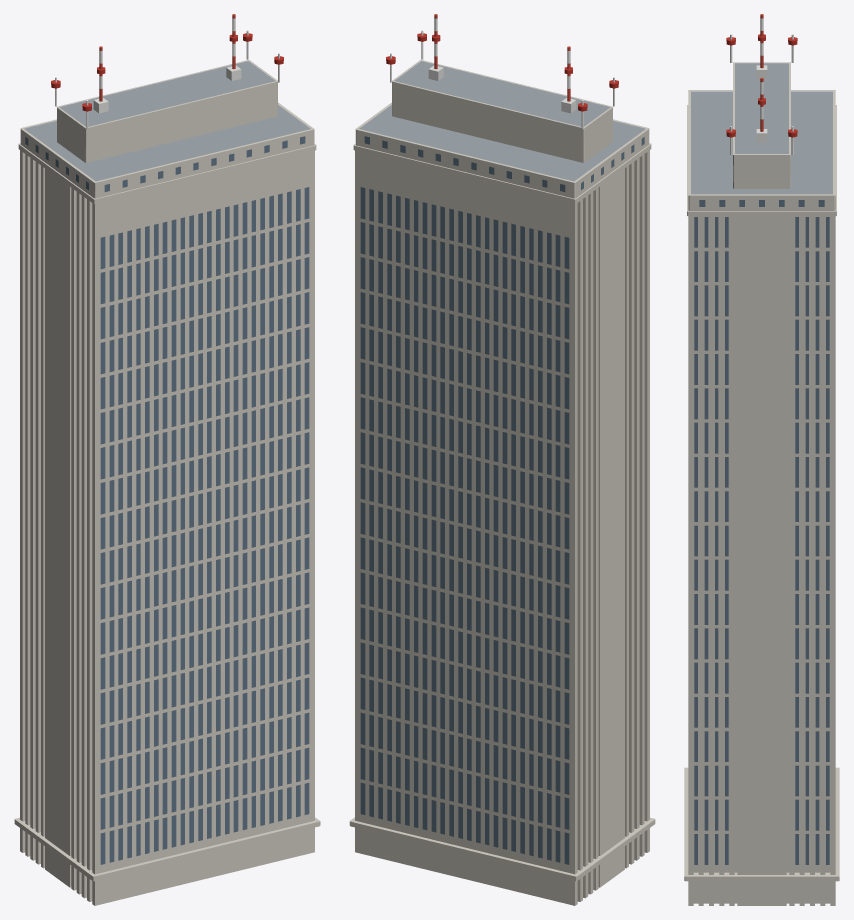
The model's file is tokyo-sunshine-60.glb.
3 views of the same model, side by side, from view 1: azimuth 30°, elevation 25°; view 2: azimuth 150°, elevation 25°; view 3: azimuth 270°, elevation 25° (orthographic).
Visible parts, largest first — view 1: Sunshine 60; view 2: Sunshine 60; view 3: Sunshine 60.
Boxes of the visible parts, x1=… form: Sunshine 60: x1=14, y1=14, x2=320, y2=905; Sunshine 60: x1=349, y1=14, x2=655, y2=905; Sunshine 60: x1=684, y1=14, x2=839, y2=905.
Size of the model in its own units: 75.4 by 260 by 45.4.
